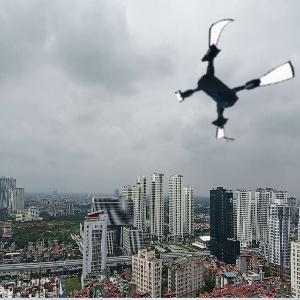drone: (175, 19, 295, 139)
